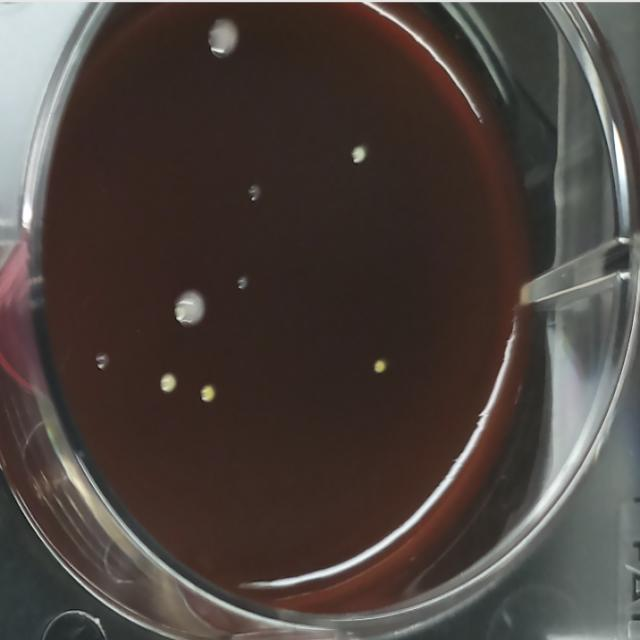Bacillus: (200, 13, 246, 66), (170, 282, 208, 334)
Staphylococcus: (348, 142, 370, 170), (158, 371, 180, 396)
